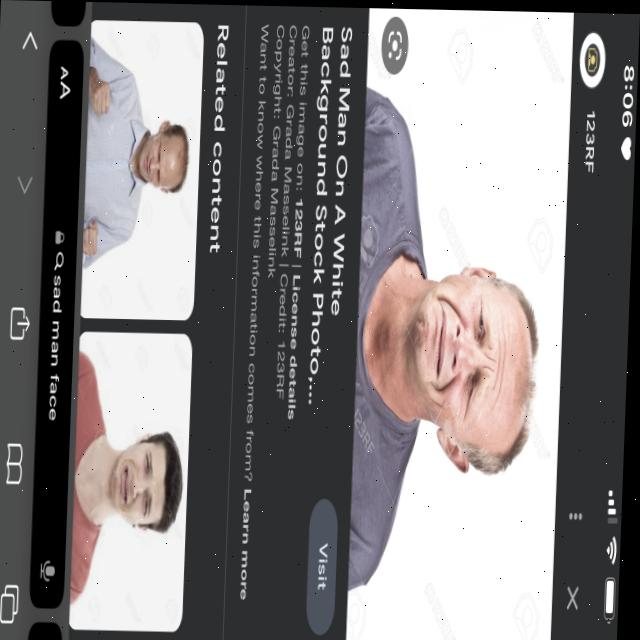sad: (417, 282, 527, 450)
